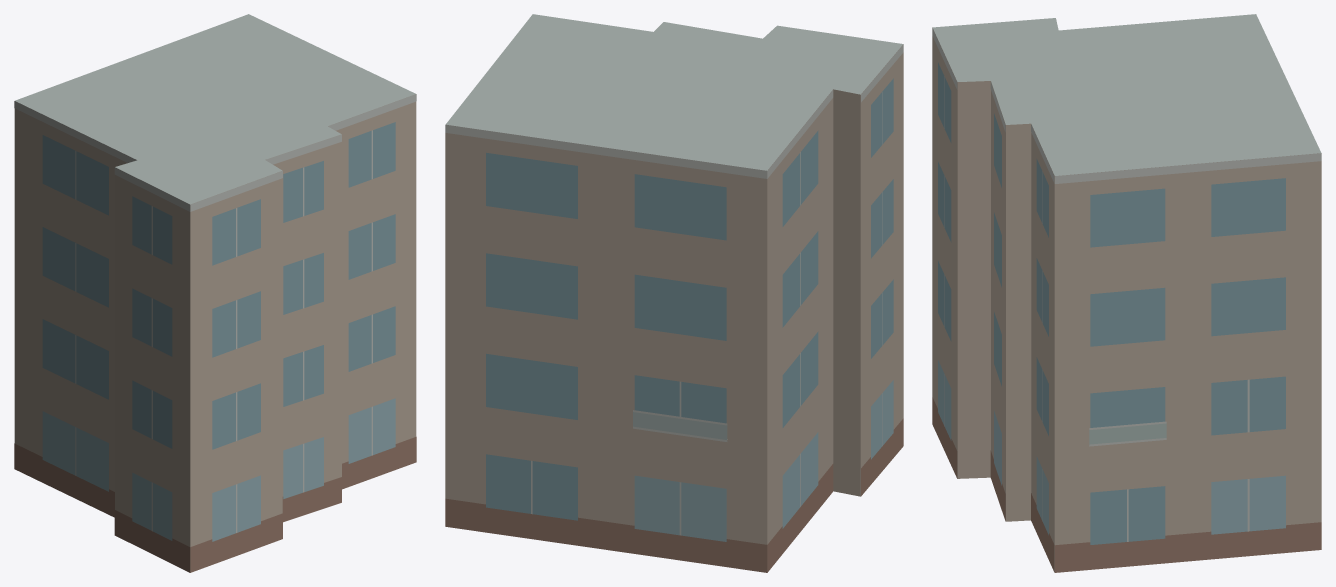
Rendered from survey-upis-32893140.glb.
3 renders of one model, left to right at view 1: azimuth 30°, elevation 25°; view 2: azimuth 150°, elevation 25°; view 3: azimuth 270°, elevation 25°, orthographic. The views are drawn at different scales.
Parts seen in each view (by area): view 1: survey-upis-32893140.tmp; view 2: survey-upis-32893140.tmp; view 3: survey-upis-32893140.tmp.
Boxes of the visible parts, box(x1,y1,x2,y2) form: survey-upis-32893140.tmp: box(14, 14, 416, 572); survey-upis-32893140.tmp: box(445, 14, 903, 572); survey-upis-32893140.tmp: box(932, 14, 1321, 572).
Size of the model in its own units: 10.52 by 12 by 10.68.
